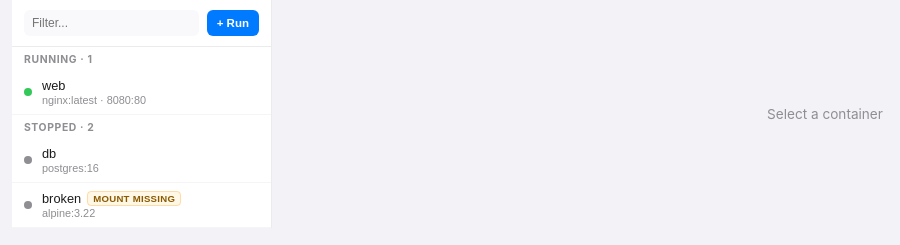
Test case: ContainersView › filters by name
This screenshot has width=900, height=245.
Check: the text "web" is shown, box [42,78,66,93]
Type "db" into the field with placeholder "Filter..." at (111, 23), box [24,10,199,36]
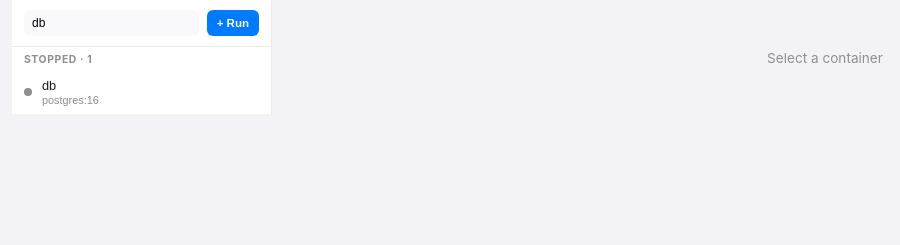
Check: the text "db" is shown, box [42,78,56,93]
Check: the button "web" is gone
